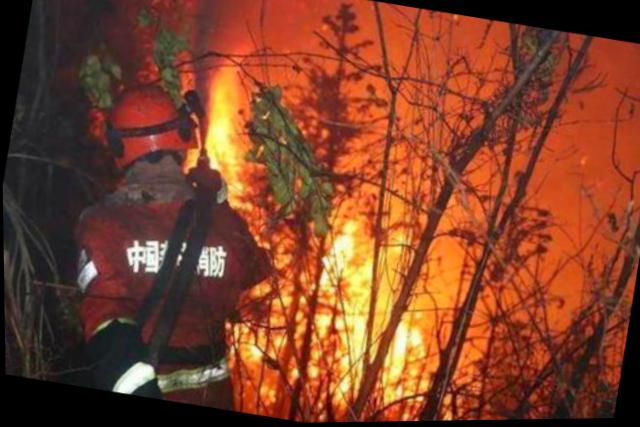fire: (281, 203, 460, 420), (177, 43, 263, 195)
